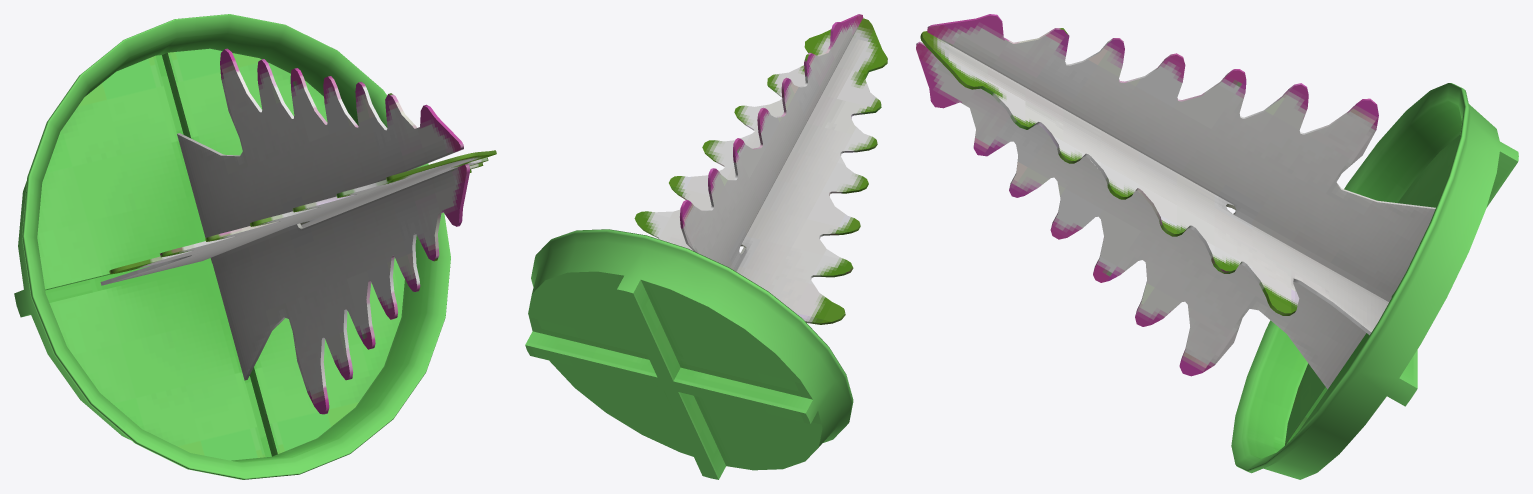
The model's file is ref_gtpapertree.glb.
3 renders of one model, left to right at view 1: azimuth 30°, elevation 25°; view 2: azimuth 150°, elevation 25°; view 3: azimuth 270°, elevation 25°, orthographic. The views are drawn at different scales.
Parts seen in each view (by area): view 1: ref_gtpapertree; view 2: ref_gtpapertree; view 3: ref_gtpapertree.
Part boxes in pixels (x1,y1,x2,y2): ref_gtpapertree: [14, 14, 496, 479]; ref_gtpapertree: [525, 14, 887, 479]; ref_gtpapertree: [916, 14, 1518, 479].
Size of the model in its own units: 0.7358 by 0.8305 by 1.
Materials: 1 (1 with a texture image).
